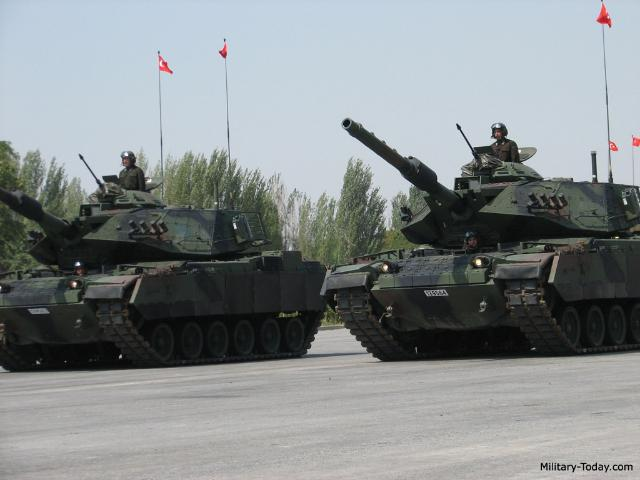other: (114, 150, 148, 184), (485, 119, 515, 156)
tank: (326, 154, 640, 356), (0, 180, 324, 371)
